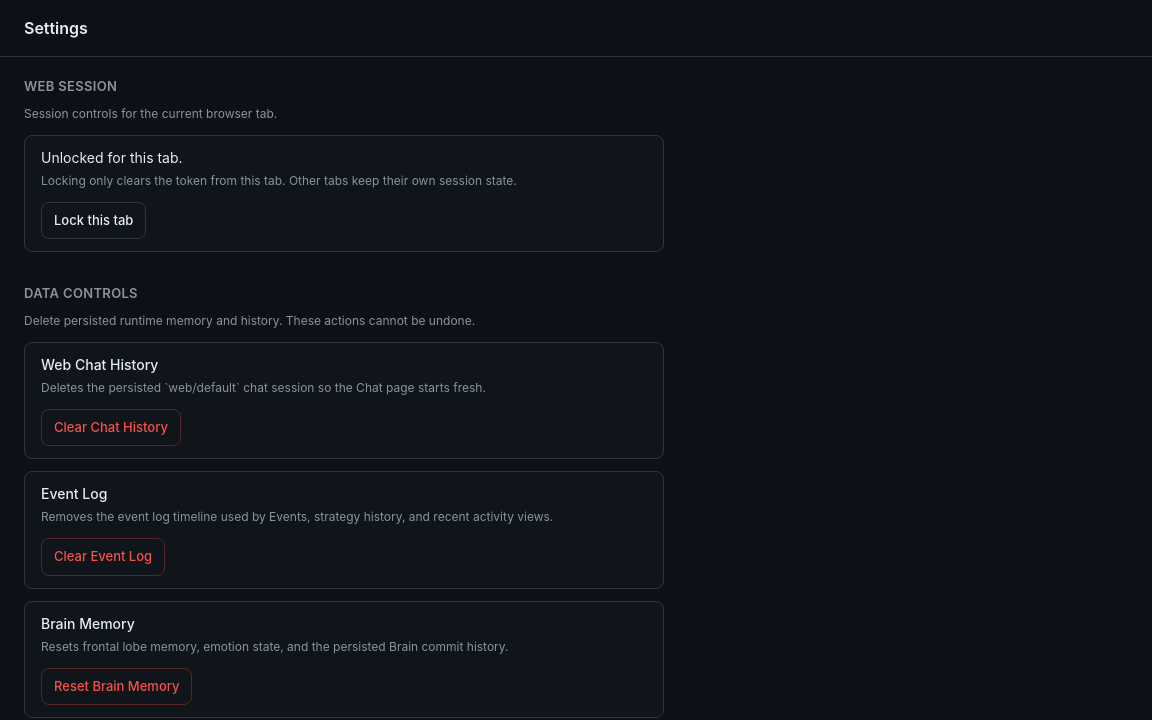
Test: SettingsPage › shows and executes the tab lock control when web auth is enabled
Expected: the text "Unlocked for this tab." is shown, [41, 148, 183, 166]
Click the button "Lock this tab": point(94, 220) [41, 202, 146, 239]
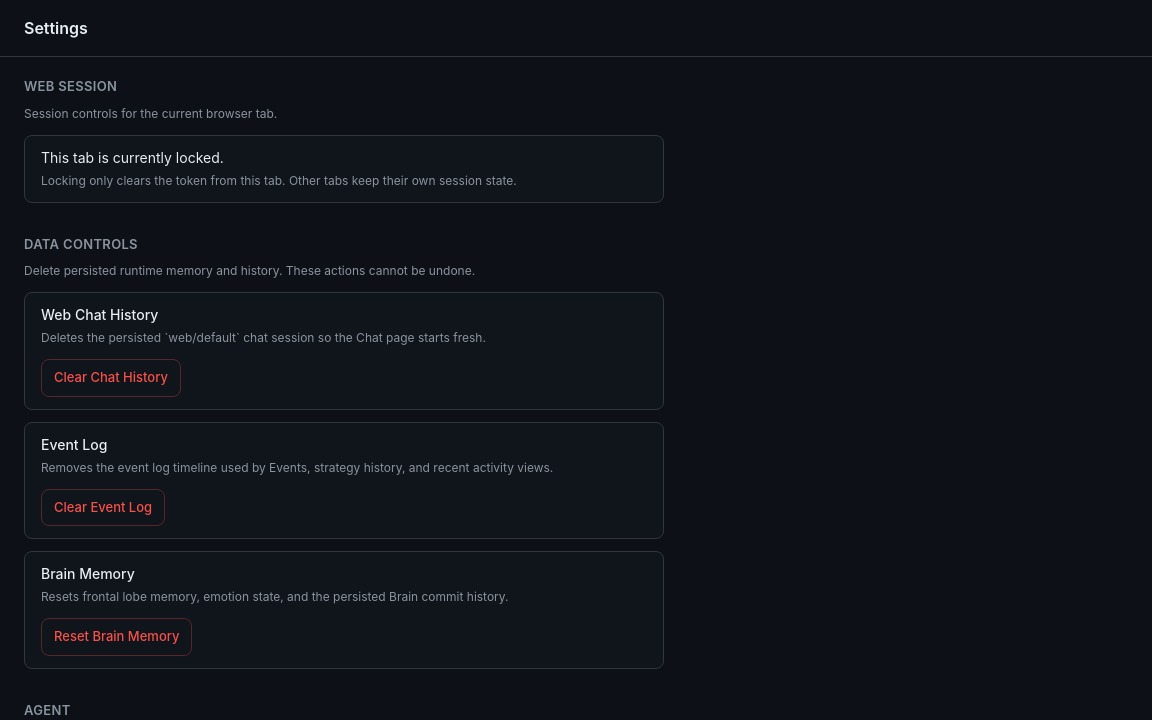
Now the text "This tab is currently locked." is shown, box [41, 148, 224, 166]
